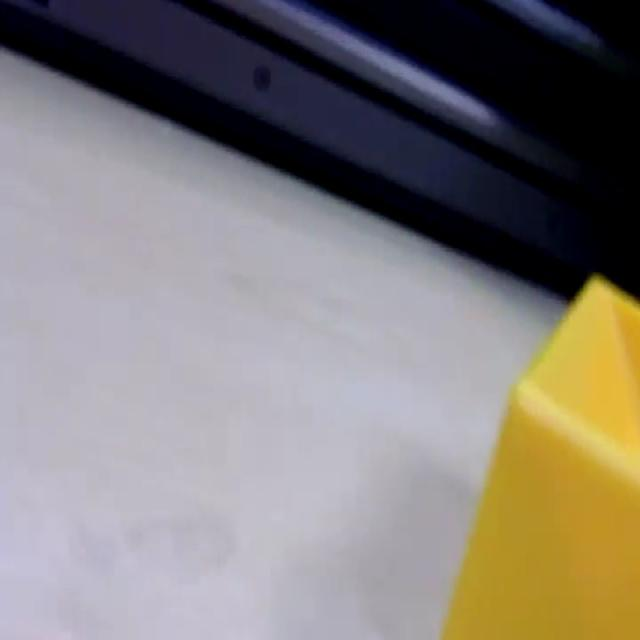yellow_block: (440, 272, 638, 636)
